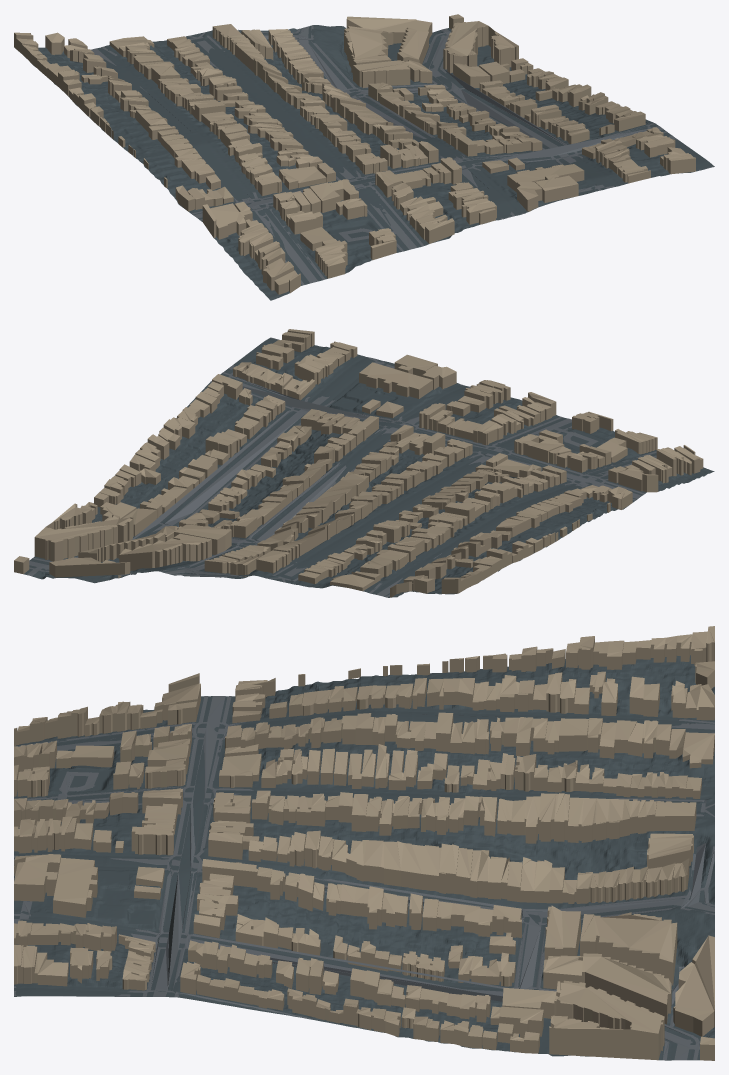
Rendered from epsg26910-1440-10883.lod0.glb.
The picture shows the model from 3 angles, top to bottom: view 1: azimuth 30°, elevation 25°; view 2: azimuth 150°, elevation 25°; view 3: azimuth 270°, elevation 25°; orthographic projection. The views are drawn at different scales.
Parts seen in each view (by area): view 1: epsg26910-1440-10883-lod0; view 2: epsg26910-1440-10883-lod0; view 3: epsg26910-1440-10883-lod0.
Part boxes in pixels (x1=…): epsg26910-1440-10883-lod0: x1=14, y1=14, x2=714, y2=300; epsg26910-1440-10883-lod0: x1=14, y1=329, x2=714, y2=597; epsg26910-1440-10883-lod0: x1=14, y1=626, x2=714, y2=1060.
Bounding box in the file's own units: 384 × 84.18 × 384.
